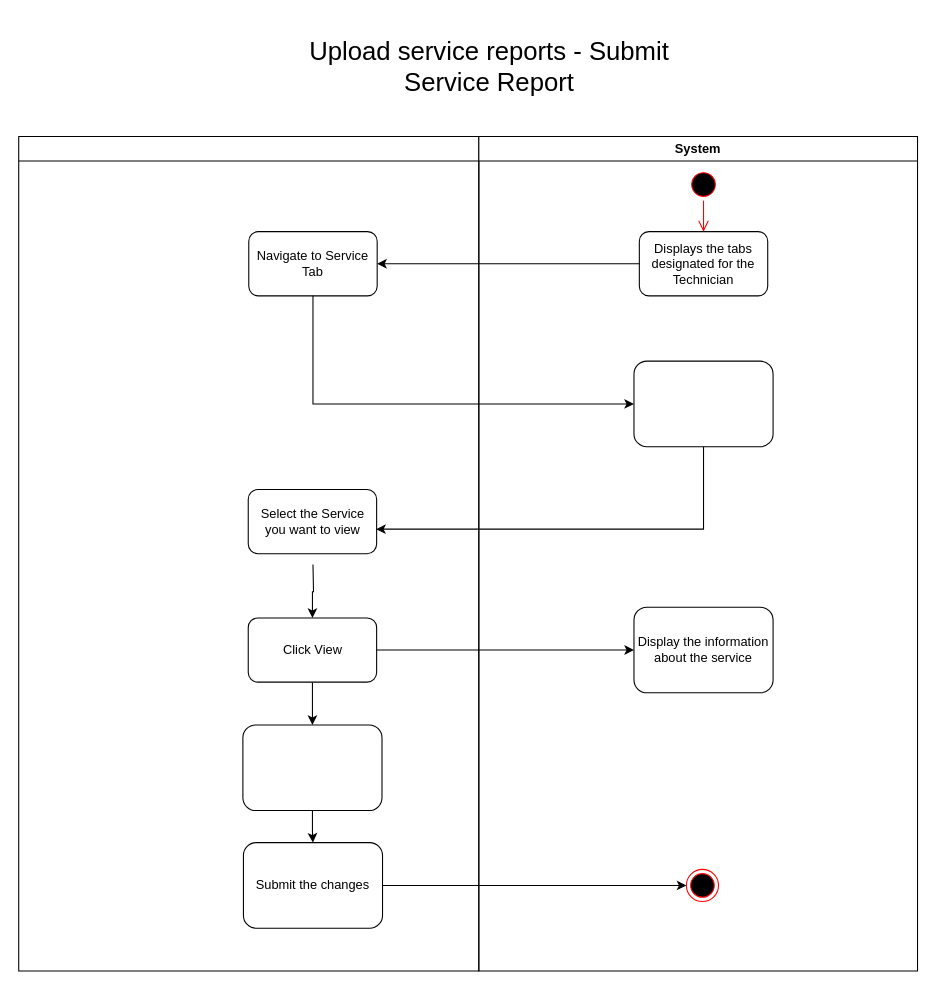
This 936x990 diagram has some shape labels left out. Here are the shapes that lost their labels. From the top down, the box of each, then its label:
(633, 360, 773, 447): Display services assigned to you
(18, 135, 479, 971): Technician
(242, 724, 382, 811): Click the upload service report
